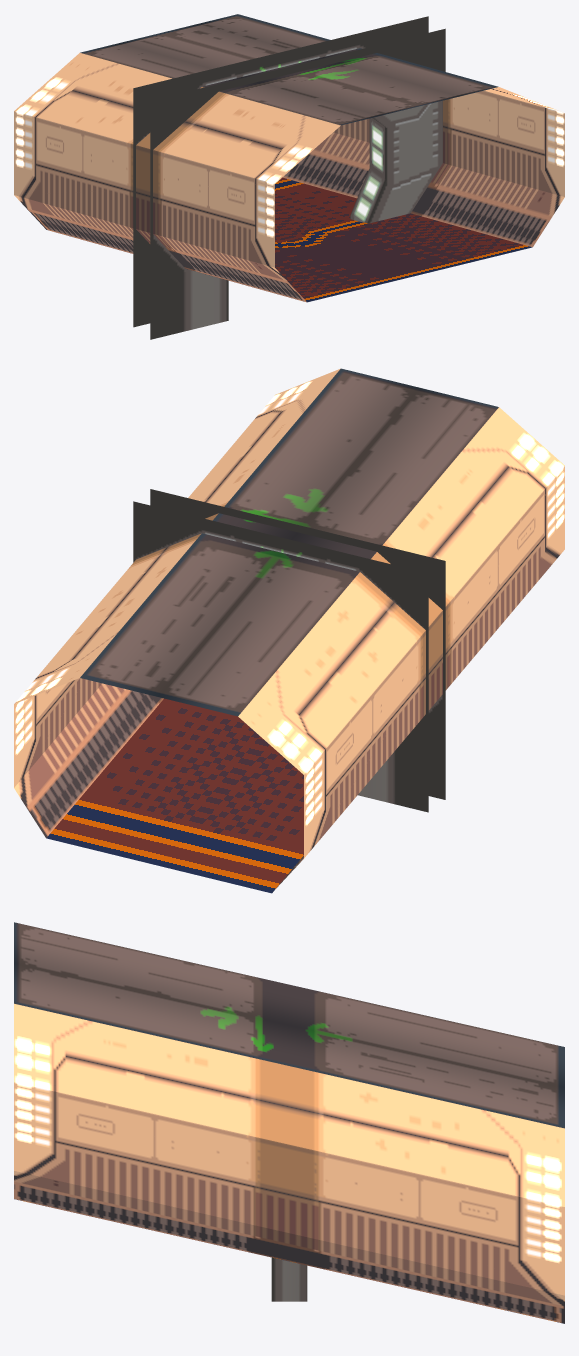
The model's file is corridor_slope.fbx.
3 renders of one model, top to bottom at view 1: azimuth 30°, elevation 25°; view 2: azimuth 150°, elevation 25°; view 3: azimuth 270°, elevation 25°, orthographic. The views are drawn at different scales.
Visible parts, largest first — view 1: corridor_wall_slope, corridor_segment, corridor_floor_slope; view 2: corridor_wall_slope, corridor_floor_slope, corridor_segment; view 3: corridor_wall_slope, corridor_segment.
Boxes of the visible parts, <box> form: corridor_wall_slope: <box>14,14,564,302</box>; corridor_segment: <box>133,16,445,339</box>; corridor_floor_slope: <box>46,177,531,302</box>; corridor_wall_slope: <box>14,368,564,891</box>; corridor_floor_slope: <box>46,698,303,893</box>; corridor_segment: <box>133,489,445,812</box>; corridor_wall_slope: <box>14,922,564,1323</box>; corridor_segment: <box>271,1257,307,1301</box>.
Size of the model in its own units: 522 by 485 by 800.
